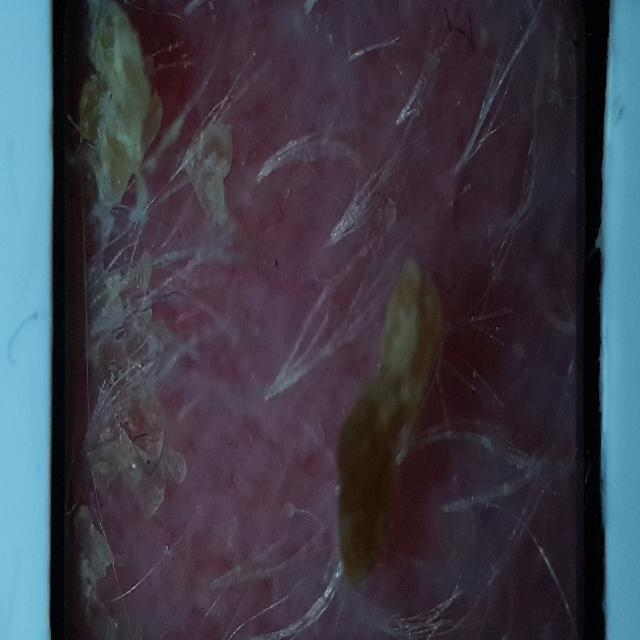fungal infection: (85, 2, 575, 630)
